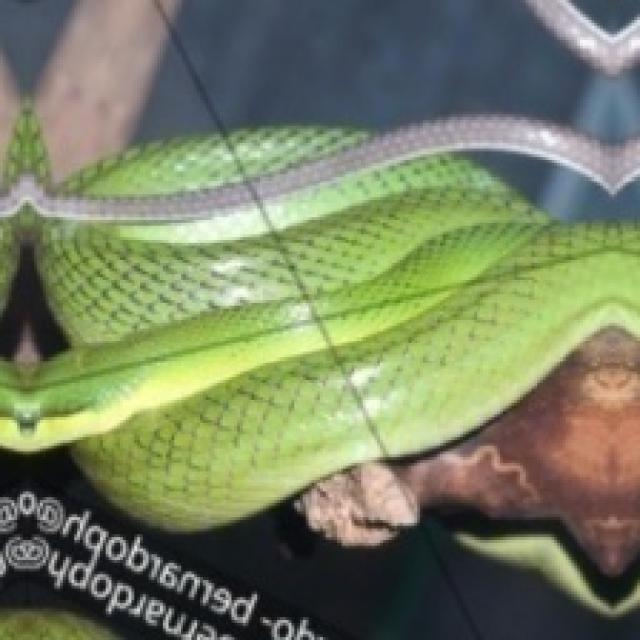red-tailed green ratsnake: (0, 80, 637, 577)
